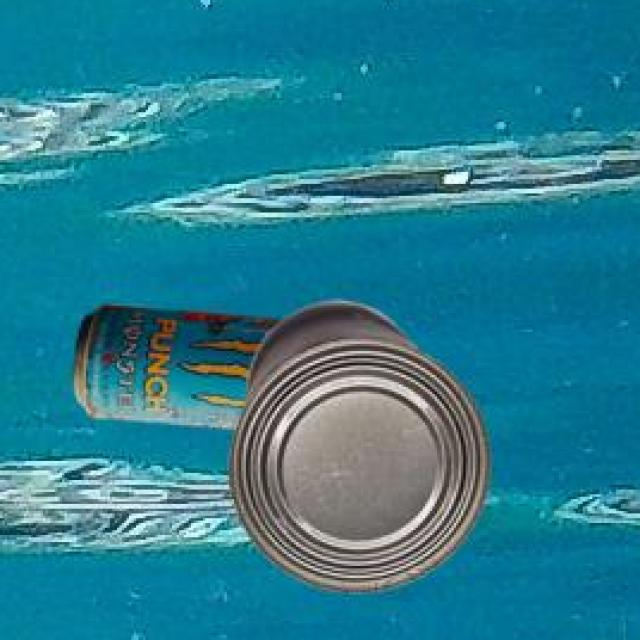logam: (226, 297, 486, 589), (70, 302, 277, 424)
